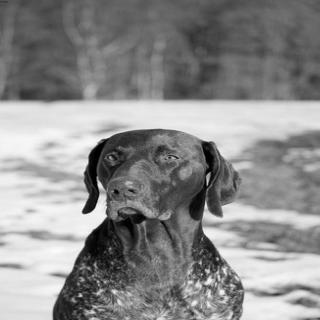dog: (70, 127, 241, 225)
nose: (106, 176, 144, 203)
